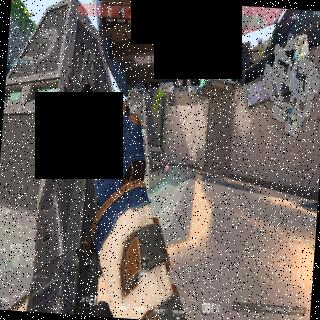ENEMY-BODY: (163, 164, 169, 178)
ENEMY-HEAD: (165, 162, 168, 165)
